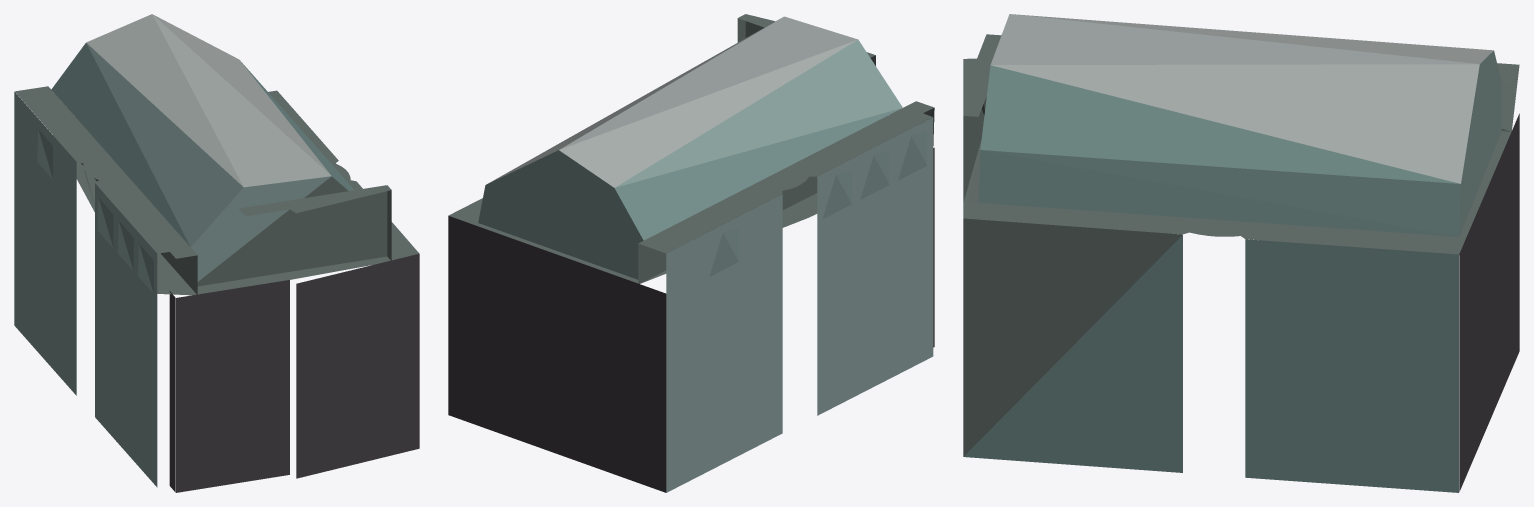
3 renders of one model, left to right at view 1: azimuth 30°, elevation 25°; view 2: azimuth 150°, elevation 25°; view 3: azimuth 270°, elevation 25°, orthographic. The views are drawn at different scales.
Visible parts, largest first — view 1: lod2; view 2: lod2; view 3: lod2.
Part boxes in pixels (bbox=[...]): lod2: bbox=[14, 14, 419, 492]; lod2: bbox=[448, 14, 934, 492]; lod2: bbox=[963, 14, 1519, 492].
Size of the model in its own units: 30.83 by 29.11 by 40.89.
